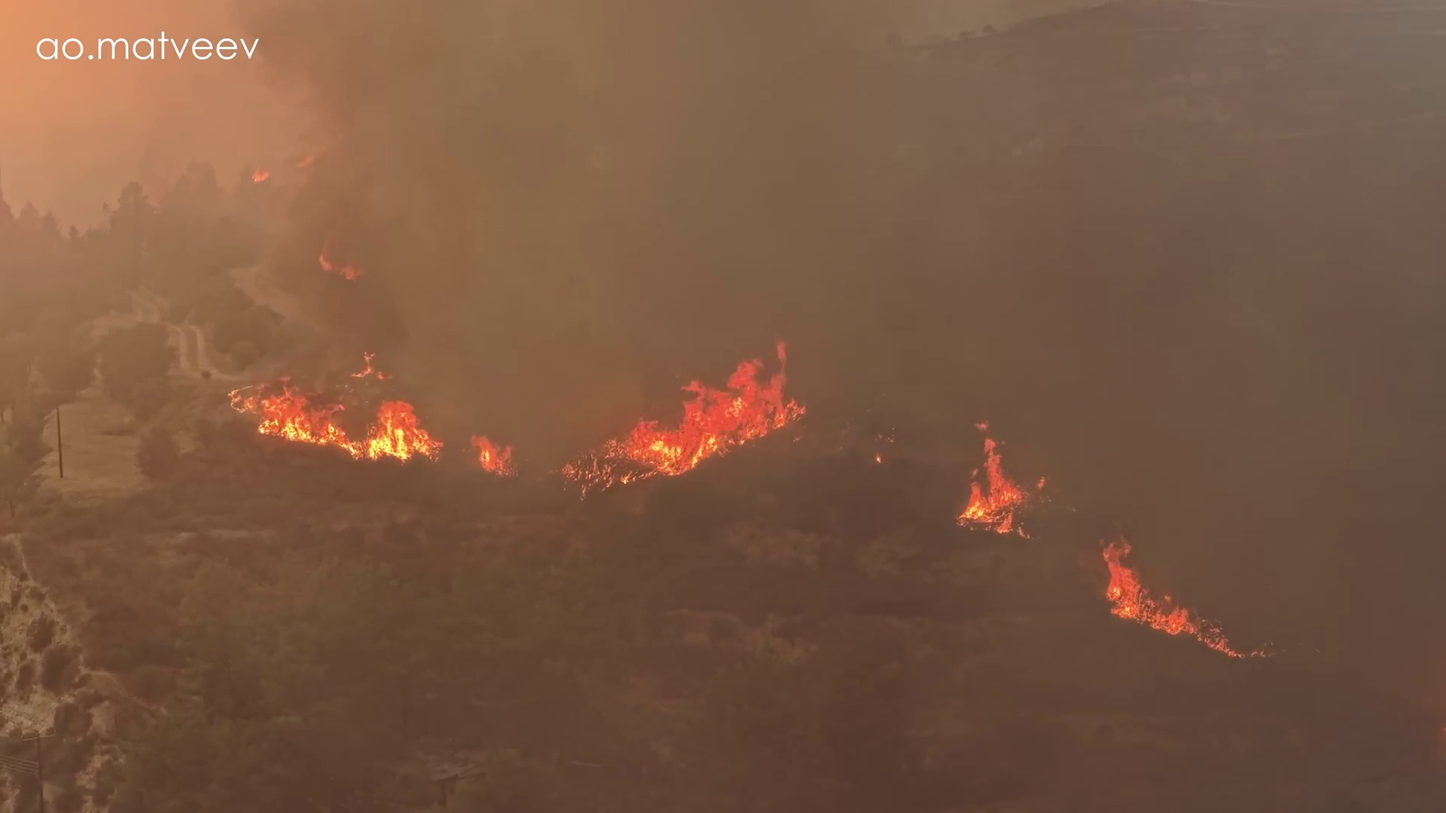forest_fire: (561, 341, 804, 495), (1102, 538, 1266, 658), (230, 378, 441, 459), (956, 422, 1033, 537), (471, 435, 515, 476), (318, 242, 362, 280), (352, 354, 382, 377), (1036, 480, 1044, 489)
